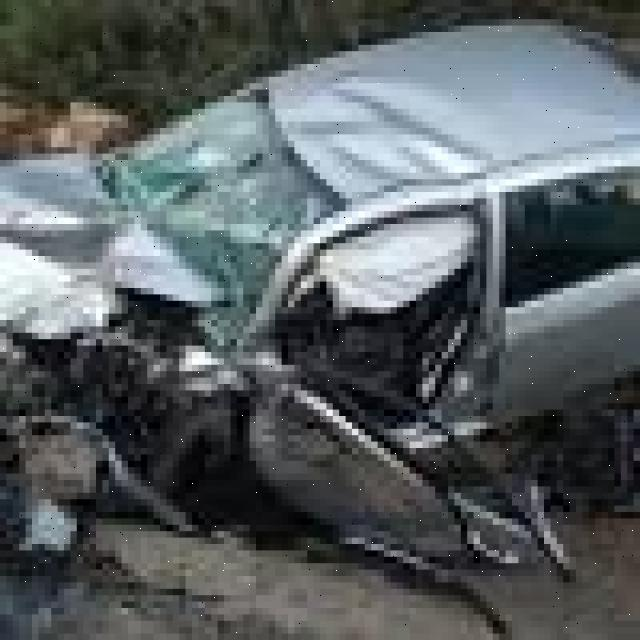severe: (6, 25, 634, 582)
